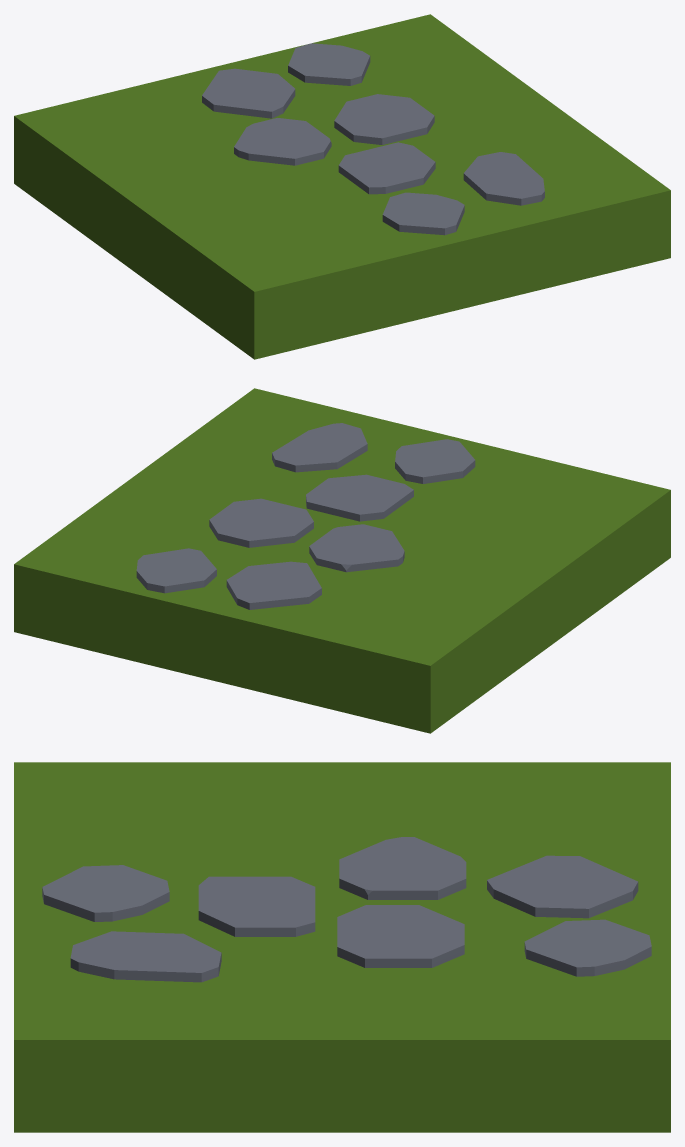
The model's file is RockStraight.fbx.
The picture shows the model from 3 angles, top to bottom: view 1: azimuth 30°, elevation 25°; view 2: azimuth 150°, elevation 25°; view 3: azimuth 270°, elevation 25°; orthographic projection. The views are drawn at different scales.
Visible parts, largest first — view 1: RockStraight; view 2: RockStraight; view 3: RockStraight.
Boxes of the visible parts, x1,y1,x2,y2 form: RockStraight: (14, 14, 670, 359); RockStraight: (14, 388, 670, 733); RockStraight: (14, 762, 670, 1132).
Bounding box in the file's own units: 450 × 77.12 × 450.
